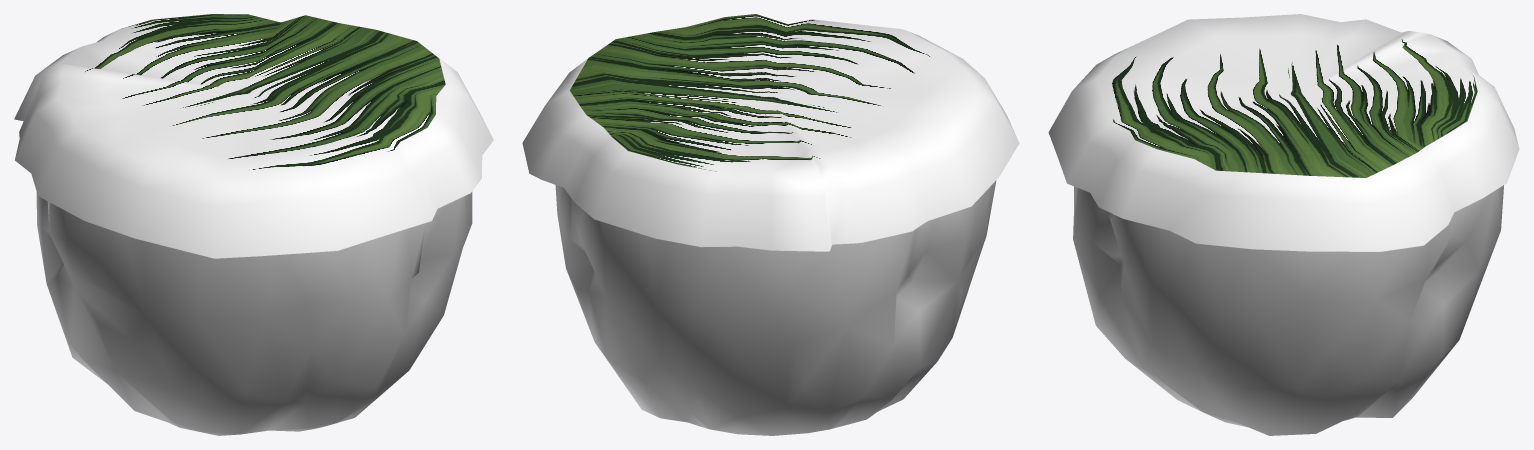
File: Island_01.fbx
The picture shows the model from 3 angles, left to right: view 1: azimuth 30°, elevation 25°; view 2: azimuth 150°, elevation 25°; view 3: azimuth 270°, elevation 25°; orthographic projection. The views are drawn at different scales.
Parts seen in each view (by area): view 1: Island_01; view 2: Island_01; view 3: Island_01.
Boxes of the visible parts, x1,y1,x2,y2 form: Island_01: (14,14,493,435); Island_01: (522,14,1019,435); Island_01: (1048,14,1519,435).
Size of the model in its own units: 284 by 203 by 285.
